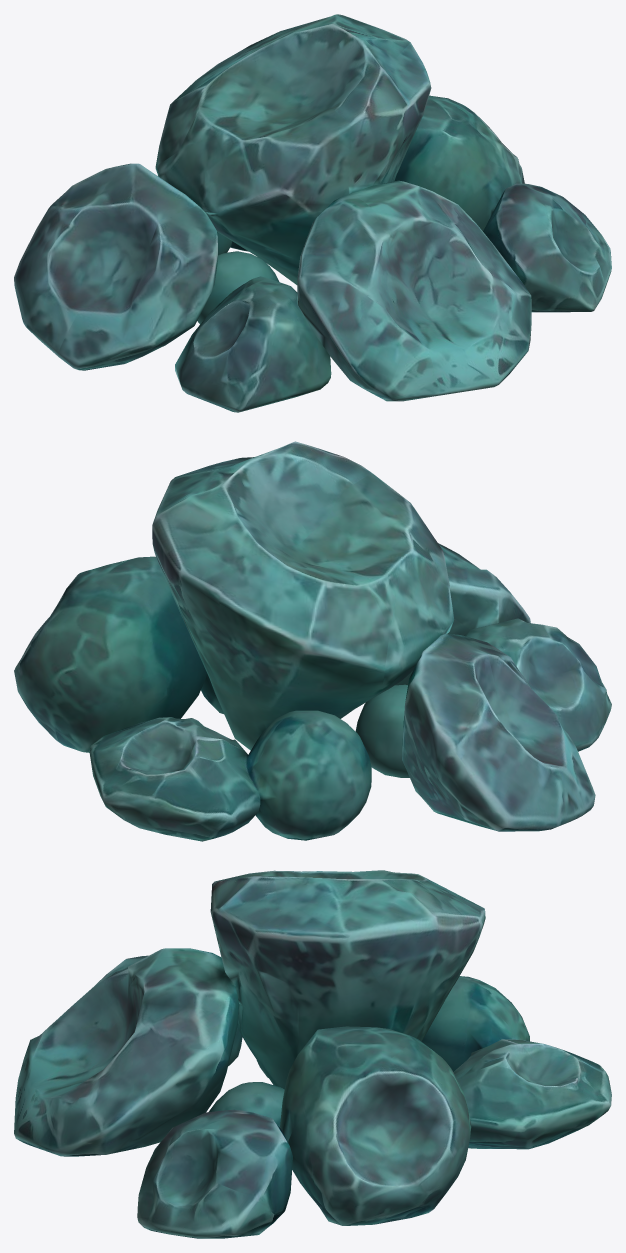
File: res_gems.glb
3 views of the same model, one above another, from view 1: azimuth 30°, elevation 25°; view 2: azimuth 150°, elevation 25°; view 3: azimuth 270°, elevation 25° (orthographic). The views are drawn at different scales.
Parts seen in each view (by area): view 1: tripo_node_02ea077b-2d07-43c9-9445-8d54d472e6be; view 2: tripo_node_02ea077b-2d07-43c9-9445-8d54d472e6be; view 3: tripo_node_02ea077b-2d07-43c9-9445-8d54d472e6be.
Part boxes in pixels (box(x1,y1,x2,y2)): tripo_node_02ea077b-2d07-43c9-9445-8d54d472e6be: box(14, 14, 611, 412); tripo_node_02ea077b-2d07-43c9-9445-8d54d472e6be: box(14, 441, 611, 841); tripo_node_02ea077b-2d07-43c9-9445-8d54d472e6be: box(14, 870, 611, 1238).
Bounding box in the file's own units: 1.4 × 0.6838 × 1.3.
Materials: 1 (1 with a texture image).
